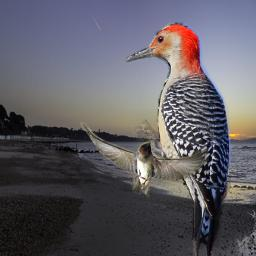Swallow: (80, 122, 209, 199)
Woodpecker: (126, 22, 231, 256)
